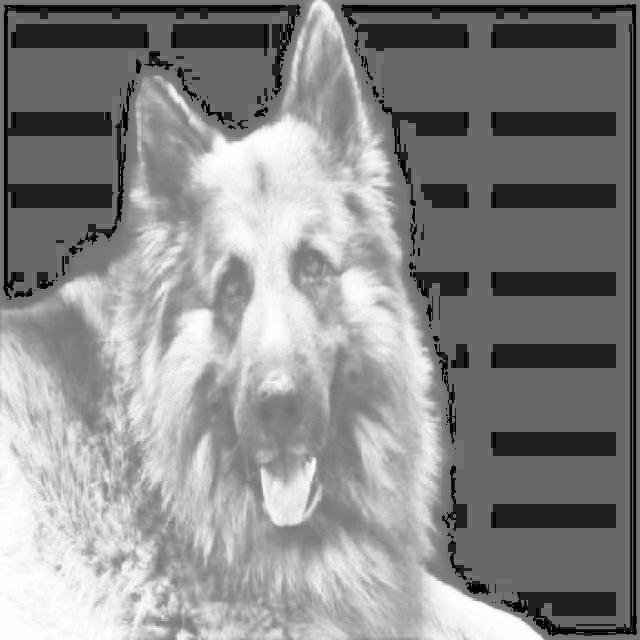Dog: (0, 0, 457, 640)
